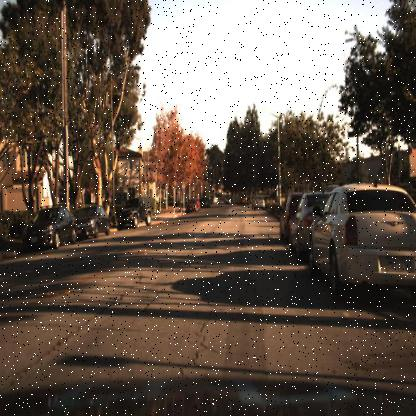car: (308, 182, 416, 300), (286, 187, 339, 262), (23, 203, 76, 251), (72, 203, 112, 239), (277, 180, 296, 255), (116, 193, 154, 229)
